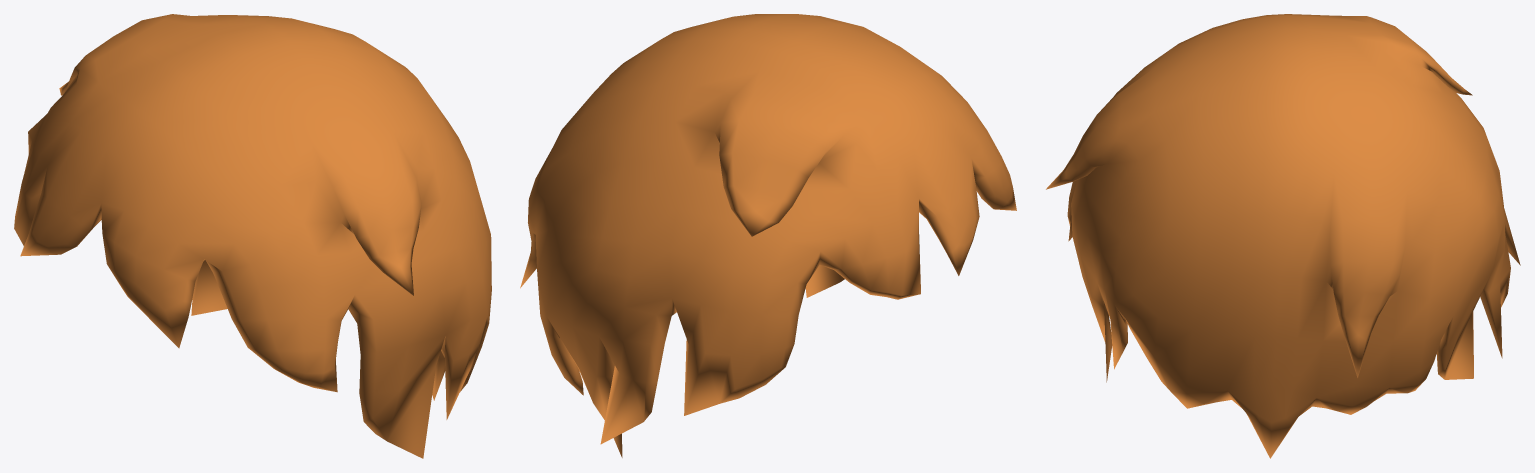
The model's file is guys hair.fbx.
3 renders of one model, left to right at view 1: azimuth 30°, elevation 25°; view 2: azimuth 150°, elevation 25°; view 3: azimuth 270°, elevation 25°, orthographic. The views are drawn at different scales.
Parts seen in each view (by area): view 1: Circle.011; view 2: Circle.011; view 3: Circle.011.
Boxes of the visible parts, x1,y1,x2,y2 form: Circle.011: (14, 14, 491, 458); Circle.011: (520, 14, 1016, 457); Circle.011: (1046, 14, 1520, 458).
Bounding box in the file's own units: 597 × 528 × 655.
